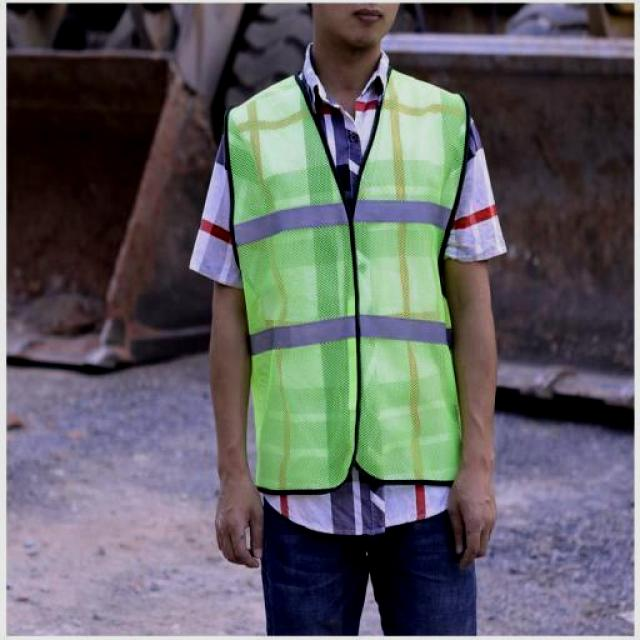hand_noglove: (445, 472, 501, 572), (210, 480, 272, 564)
vest: (227, 58, 468, 512)
